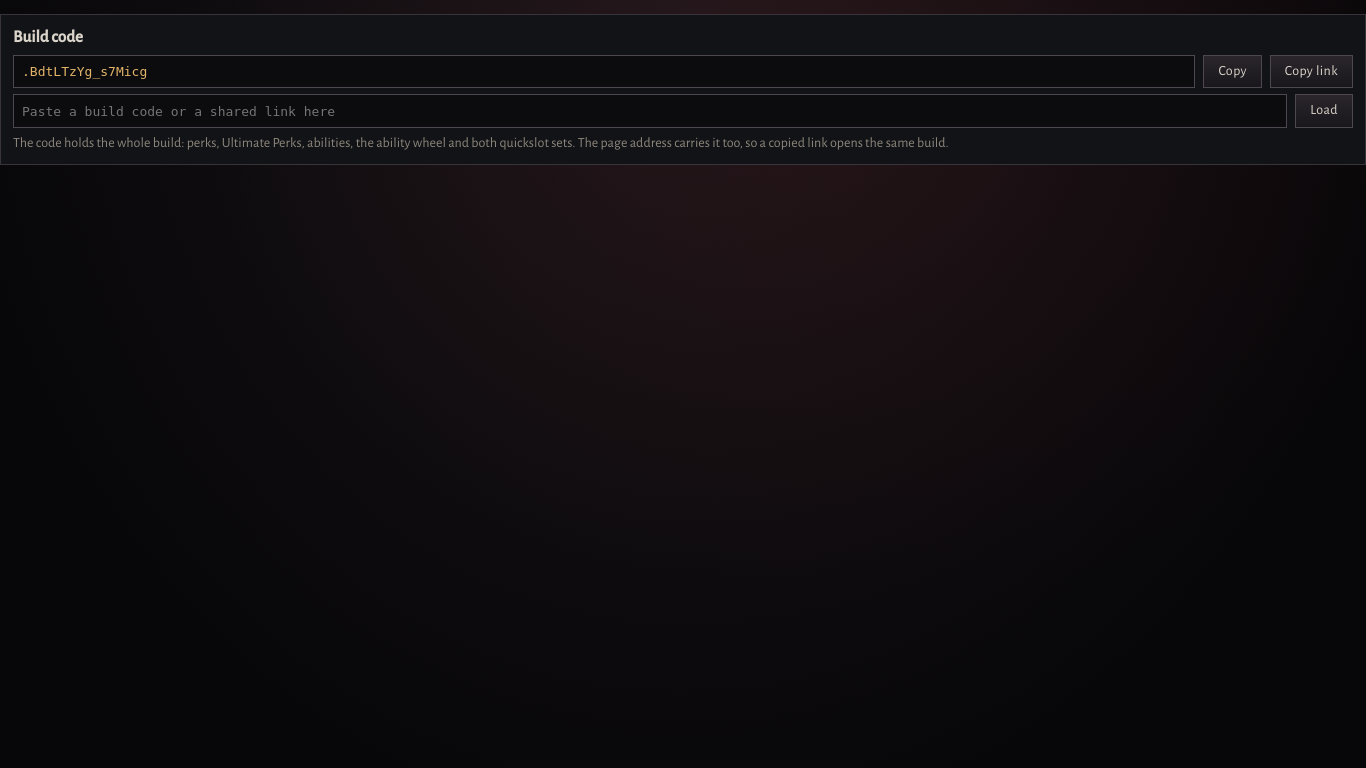
Test case: SharePanel › keeps pasted text that holds no build code and says so
Type "not a build code" into the field labelled "Paste a build code" at {"x": 650, "y": 111}, box x1=13 y1=94 x2=1287 y2=128
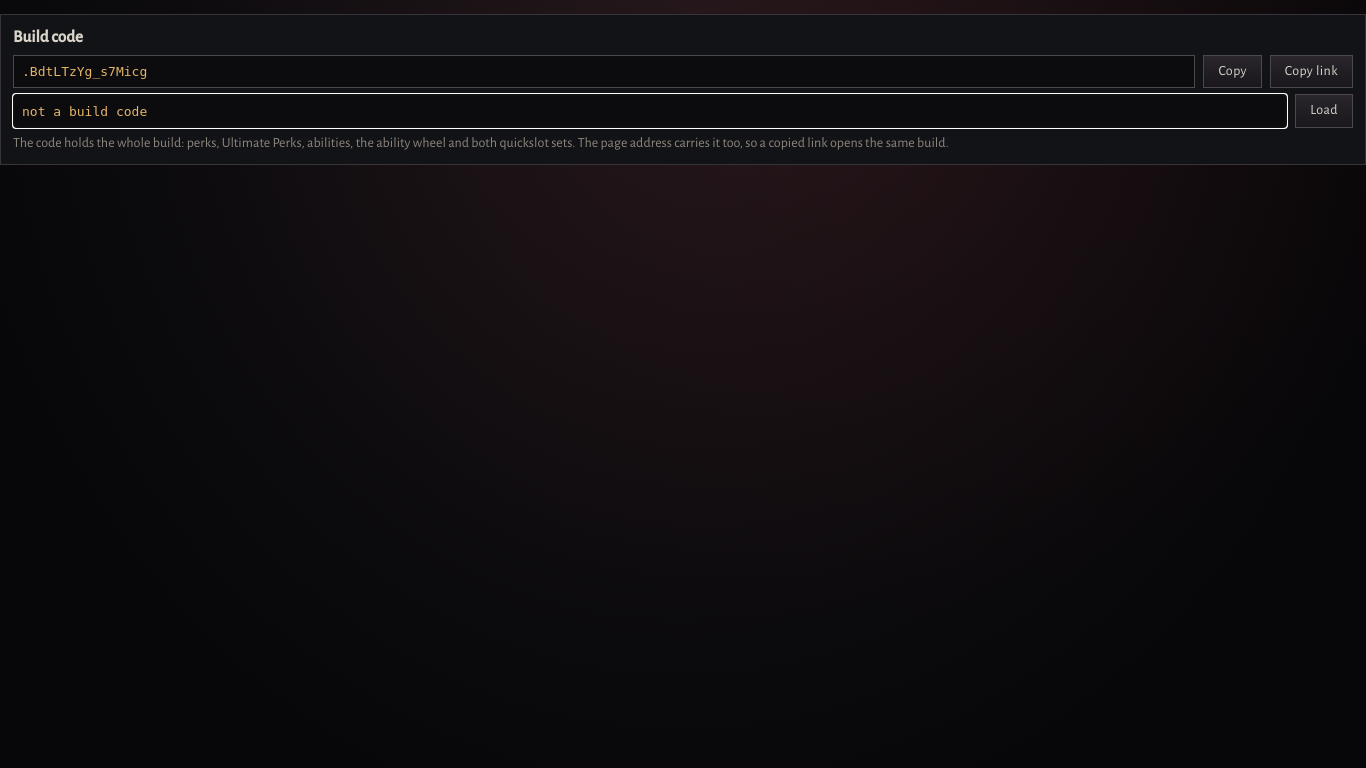
Click the button "Load" at {"x": 1324, "y": 111}, box x1=1295 y1=94 x2=1353 y2=128
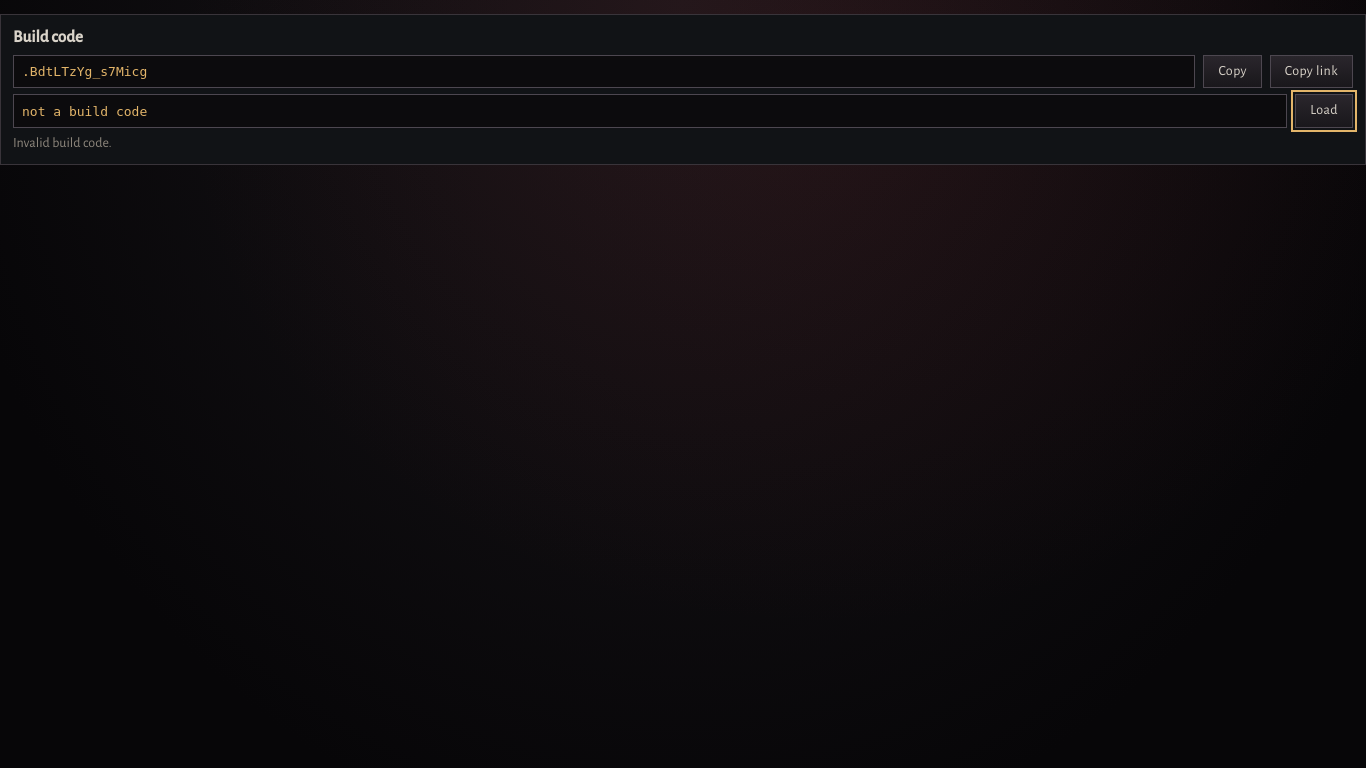
Expected: the message reads "Invalid build code.", x1=13 y1=136 x2=112 y2=150
